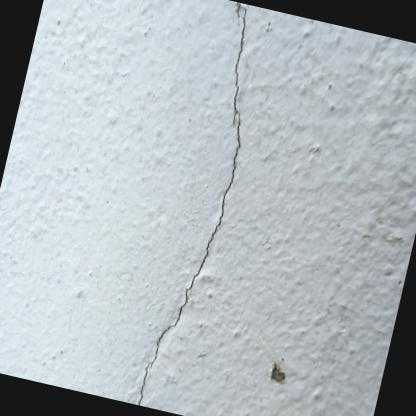crack: (136, 0, 246, 406)
